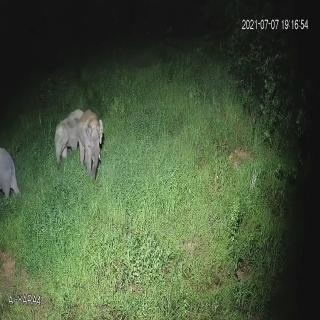Elephant: (51, 104, 89, 174), (78, 106, 108, 182)
